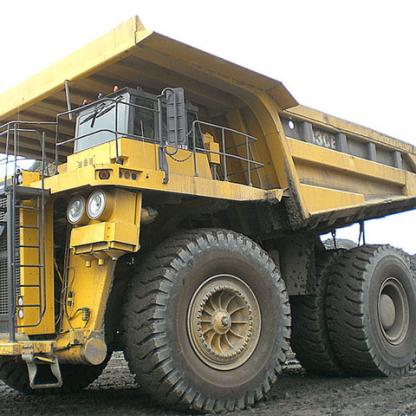dump_truck: (4, 20, 412, 410)
